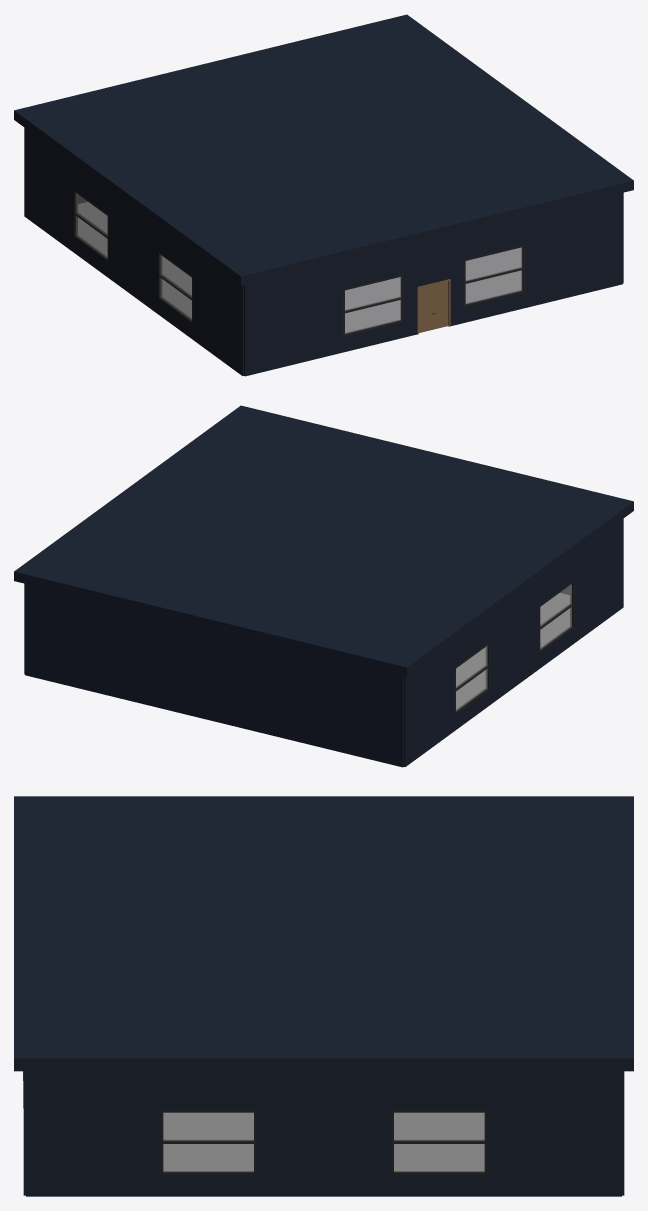
File: phongthinghiem.glb
The picture shows the model from 3 angles, top to bottom: view 1: azimuth 30°, elevation 25°; view 2: azimuth 150°, elevation 25°; view 3: azimuth 270°, elevation 25°; orthographic projection. The views are drawn at different scales.
Visible parts, largest first — view 1: Arch_Ceiling_Solid, Cube.002, Cube.012, Arch_Floor, Cube.021, Cube.030, Cube.039, Cube.010, Cube.020, Cube.004, Cube.014, Cube.011 (+12 smaller); view 2: Arch_Ceiling_Solid, Arch_Wall_Back, Cube.039, Cube.030, Cube.021, Arch_Floor, Cube.029, Cube.038, Cube.032, Cube.023, Cube.022, Cube.031; view 3: Arch_Ceiling_Solid, Cube.049, Cube.040, Cube.058, Arch_Floor, Cube.048, Cube.057, Cube.042, Cube.051, Cube.041, Cube.050.
Part boxes in pixels (x1,y1,x2,y2): Arch_Ceiling_Solid: [14, 14, 633, 285]; Cube.002: [244, 261, 343, 376]; Cube.012: [524, 193, 622, 307]; Arch_Floor: [78, 202, 521, 332]; Cube.021: [193, 251, 243, 375]; Cube.030: [108, 189, 158, 313]; Cube.039: [24, 127, 73, 252]; Cube.010: [345, 277, 400, 333]; Cube.020: [466, 247, 521, 303]; Cube.004: [343, 246, 403, 288]; Cube.014: [464, 217, 524, 259]; Cube.011: [448, 231, 464, 325]; Arch_Ceiling_Solid: [14, 405, 633, 676]; Arch_Wall_Back: [25, 584, 403, 767]; Cube.039: [404, 642, 454, 766]; Cube.030: [489, 580, 539, 704]; Cube.021: [574, 518, 623, 643]; Arch_Floor: [456, 593, 569, 709]; Cube.029: [540, 584, 571, 648]; Cube.038: [456, 646, 487, 710]; Cube.032: [455, 617, 489, 667]; Cube.023: [539, 555, 573, 605]; Cube.022: [539, 628, 573, 668]; Cube.031: [455, 690, 489, 730]; Arch_Ceiling_Solid: [14, 796, 633, 1071]; Cube.049: [256, 1071, 391, 1196]; Cube.040: [26, 1071, 160, 1196]; Cube.058: [487, 1071, 621, 1196]; Arch_Floor: [163, 1112, 484, 1170]; Cube.048: [163, 1113, 253, 1171]; Cube.057: [394, 1113, 484, 1171]; Cube.042: [161, 1071, 256, 1110]; Cube.051: [391, 1071, 486, 1110]; Cube.041: [161, 1175, 256, 1196]; Cube.050: [391, 1175, 486, 1196].
Size of the model in its own units: 26 by 6.6 by 26.
